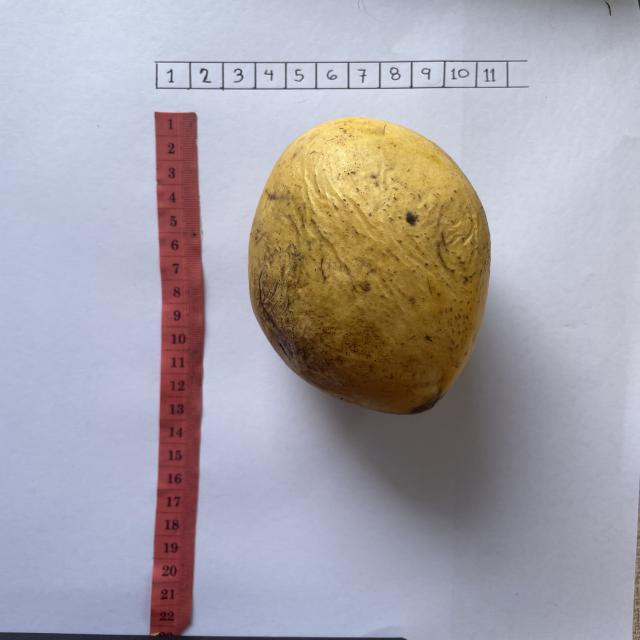Ripe: (246, 117, 492, 418)
